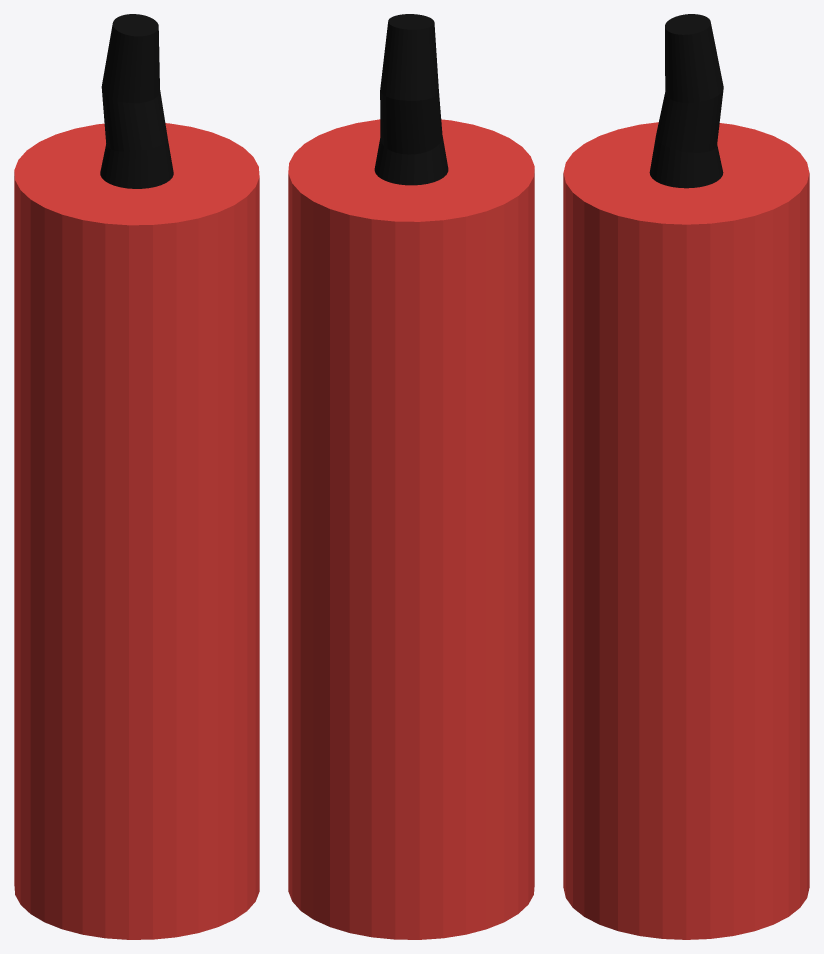
The model's file is Dynamite.fbx.
The picture shows the model from 3 angles, left to right: view 1: azimuth 30°, elevation 25°; view 2: azimuth 150°, elevation 25°; view 3: azimuth 270°, elevation 25°; orthographic projection.
Visible parts, largest first — view 1: Dyanmite; view 2: Dyanmite; view 3: Dyanmite.
Part boxes in pixels (<box>): Dyanmite: <box>14,14,259,939</box>; Dyanmite: <box>288,14,534,939</box>; Dyanmite: <box>563,14,809,939</box>.
Size of the model in its own units: 0.2547 by 0.9883 by 0.2547.
